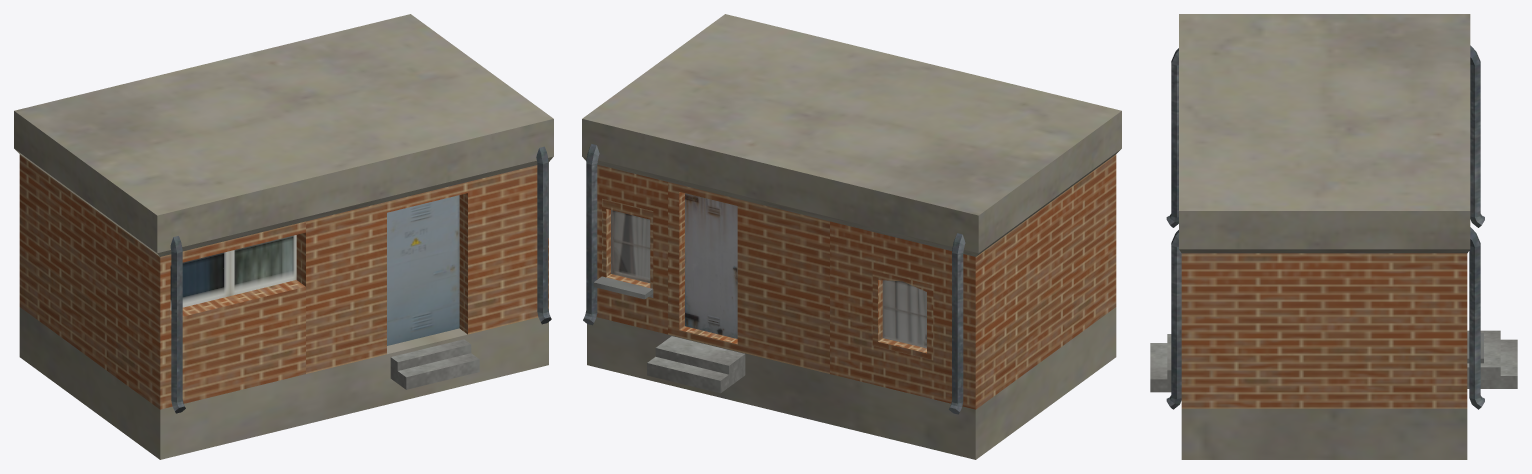
The model's file is building_7.fbx.
3 views of the same model, side by side, from view 1: azimuth 30°, elevation 25°; view 2: azimuth 150°, elevation 25°; view 3: azimuth 270°, elevation 25° (orthographic).
Visible parts, largest first — view 1: building_7; view 2: building_7; view 3: building_7.
Boxes of the visible parts, x1=… form: building_7: x1=14, y1=14, x2=553, y2=459; building_7: x1=582, y1=14, x2=1121, y2=459; building_7: x1=1150, y1=14, x2=1517, y2=459.
Size of the model in its own units: 816 by 484 by 644.
